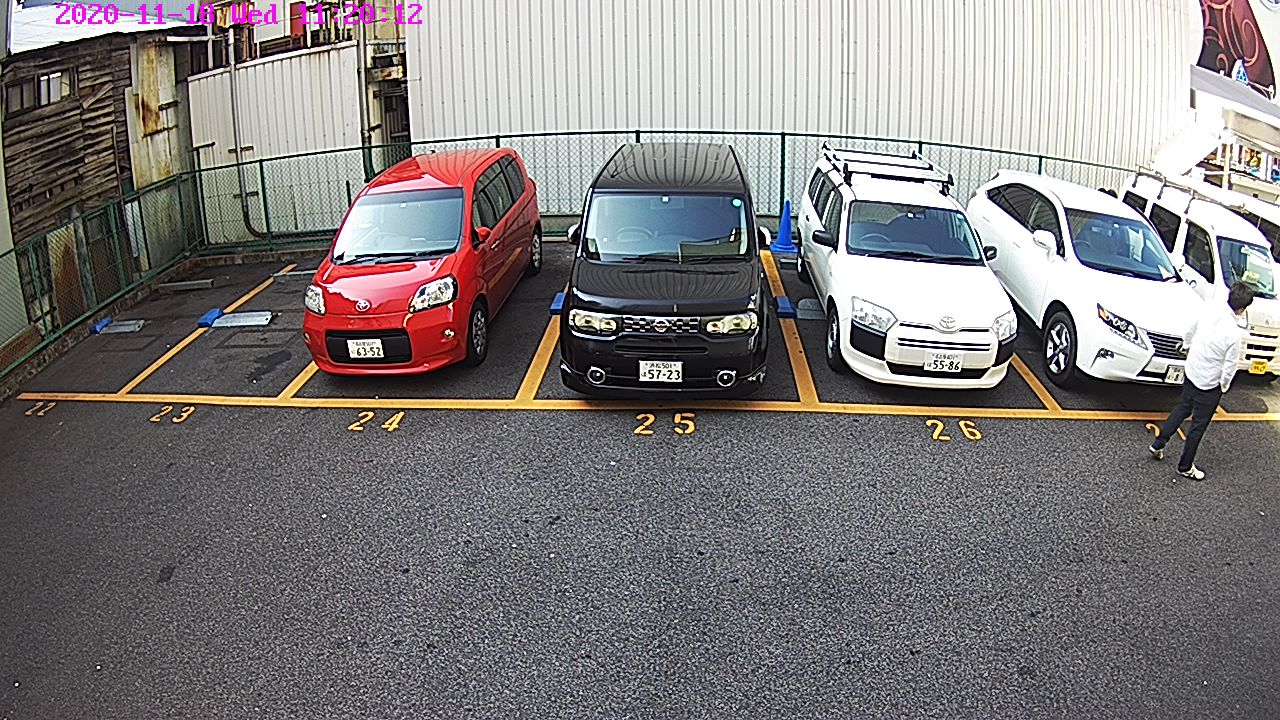number_plate: (637, 362, 684, 382), (924, 349, 962, 372), (348, 337, 384, 359), (1246, 357, 1272, 376), (1168, 362, 1186, 385)
